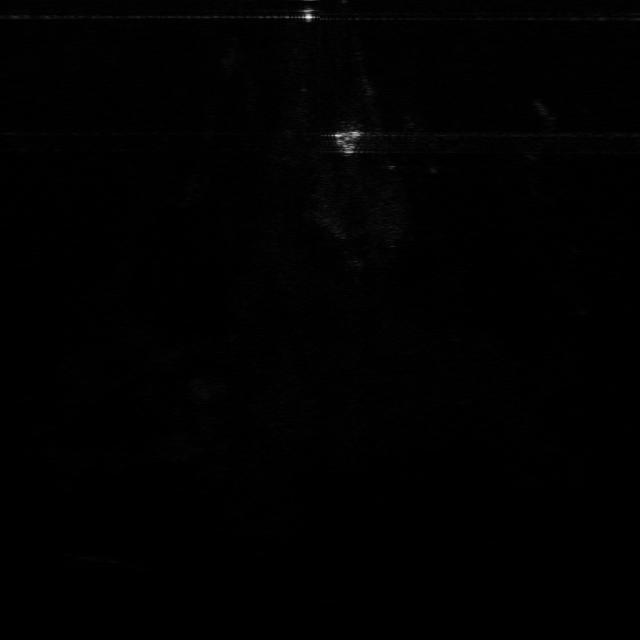rov: (326, 125, 366, 156)
